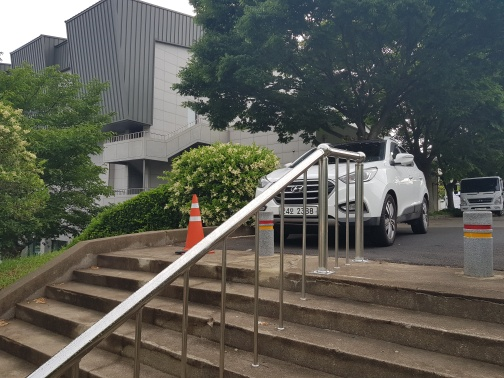Gym: (33, 6, 224, 208)
